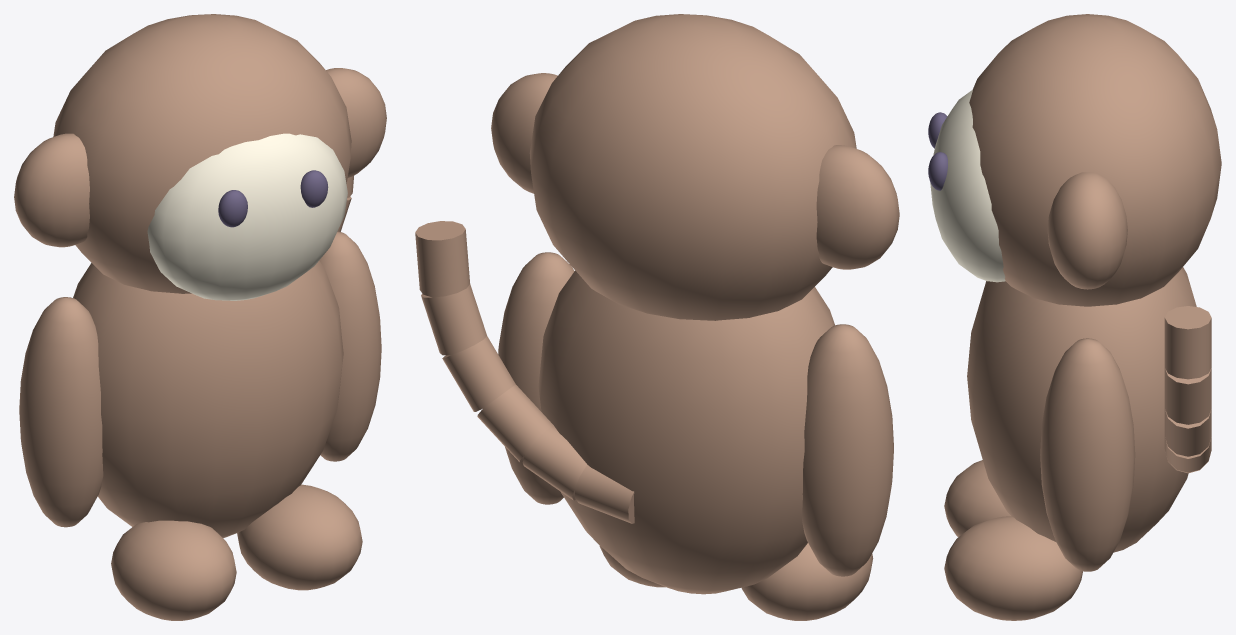
Rendered from st_rain_monkey.glb.
The picture shows the model from 3 angles, left to right: view 1: azimuth 30°, elevation 25°; view 2: azimuth 150°, elevation 25°; view 3: azimuth 270°, elevation 25°; orthographic projection. The views are drawn at different scales.
Parts seen in each view (by area): view 1: Baby_Monkey_Friend; view 2: Baby_Monkey_Friend; view 3: Baby_Monkey_Friend.
Boxes of the visible parts, <box> form: Baby_Monkey_Friend: <box>14,14,386,620</box>; Baby_Monkey_Friend: <box>415,14,899,620</box>; Baby_Monkey_Friend: <box>928,14,1221,620</box>.
Bounding box in the file's own units: 0.6735 × 0.91 × 0.438.
